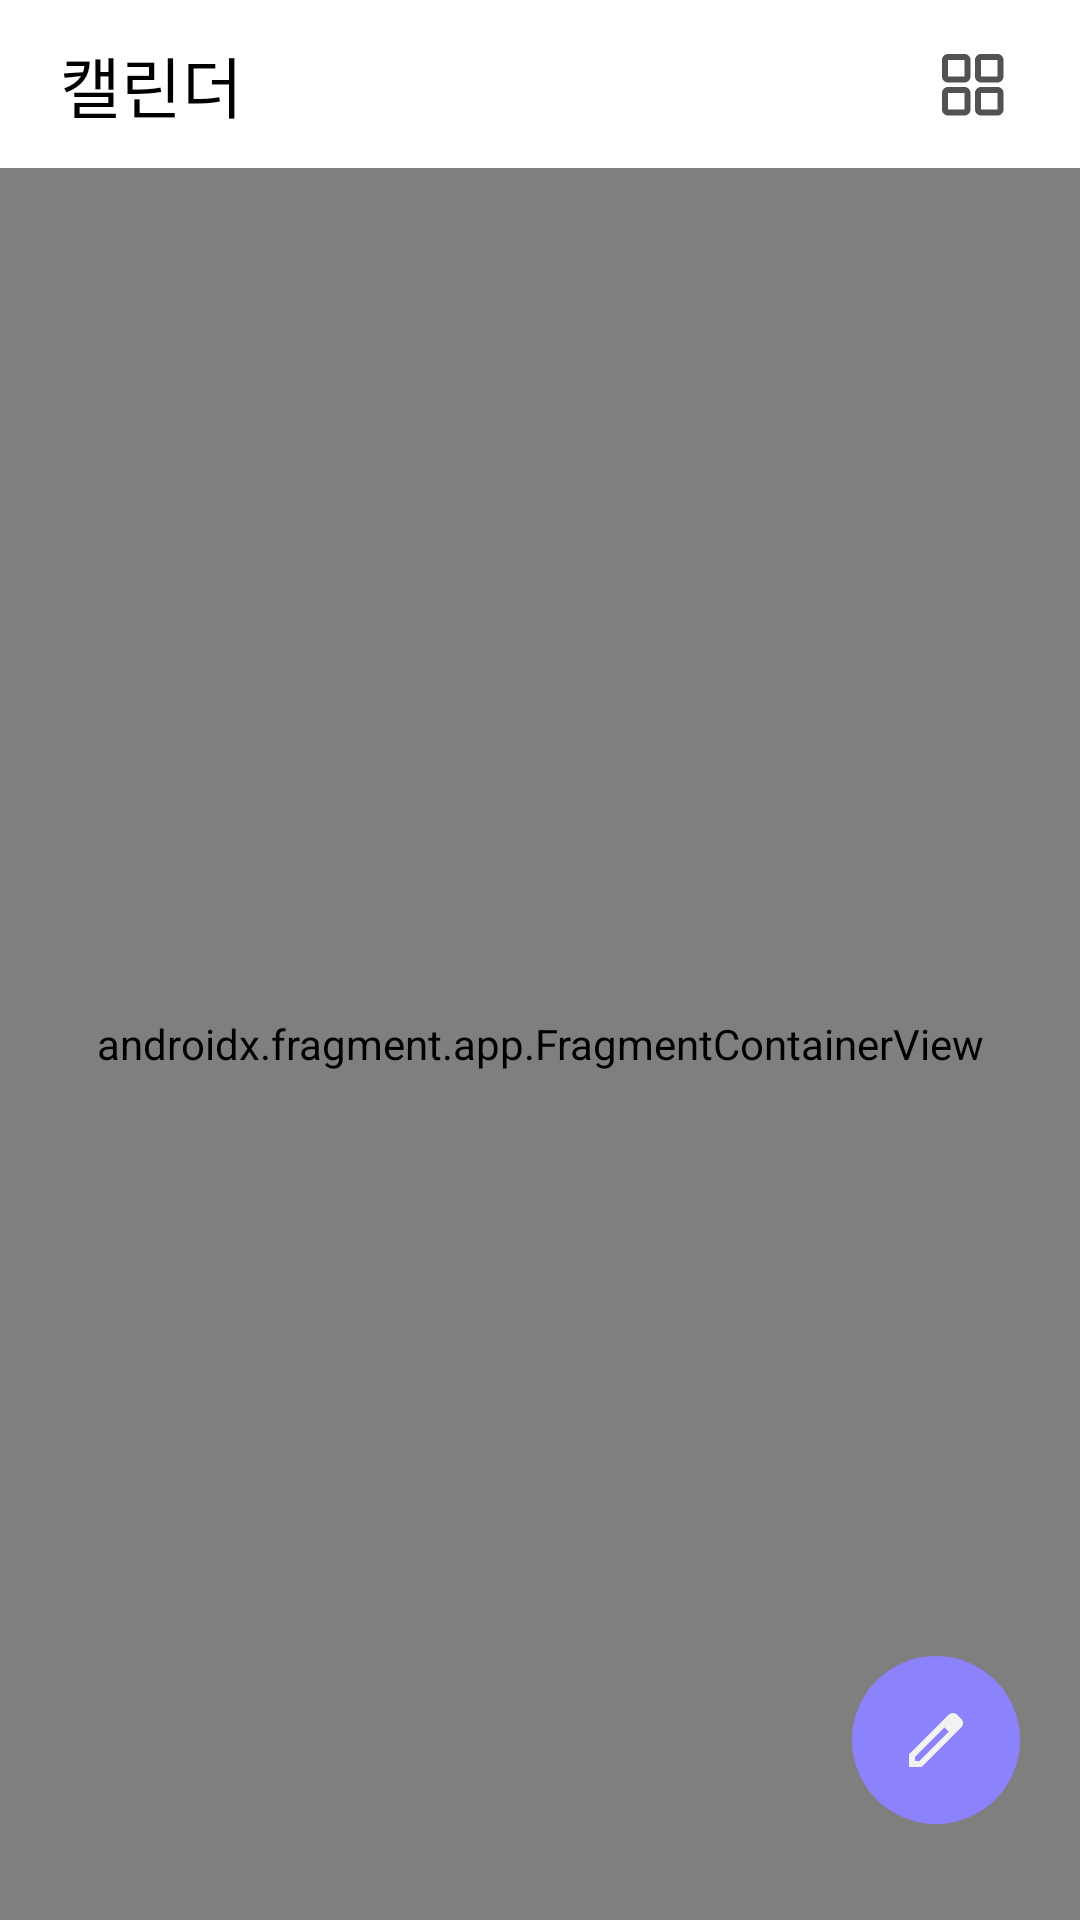

Screen size 1080px×1920px. Icon name, then its center in pixels as point (x, y):
ab grid: point (973, 85)
edit: point (936, 1740)
